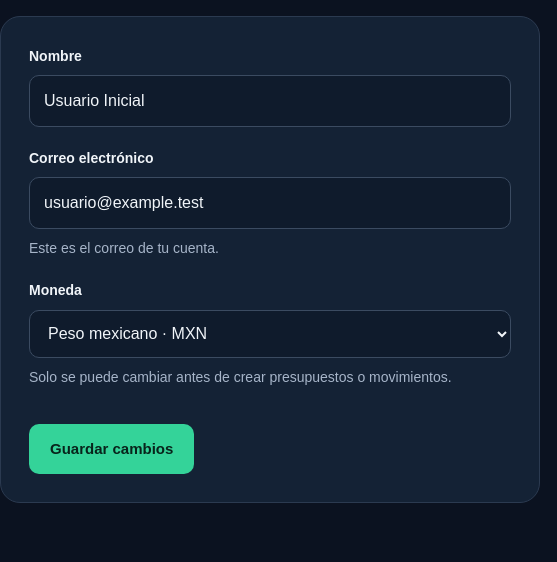
Test: ProfileForm › submits updated profile and displays success confirmation
Replace the text in the field labelled "Nombre" with "Nuevo Nombre" at (270, 101), box [29,75,511,127]
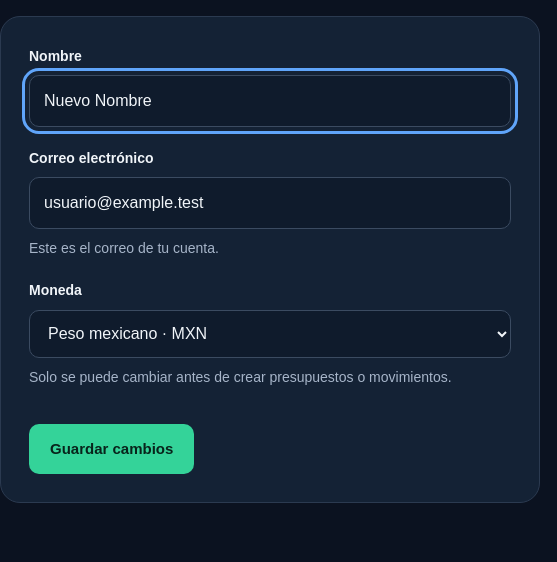
Click the button "Guardar cambios" at (112, 449), box [29,424,194,474]
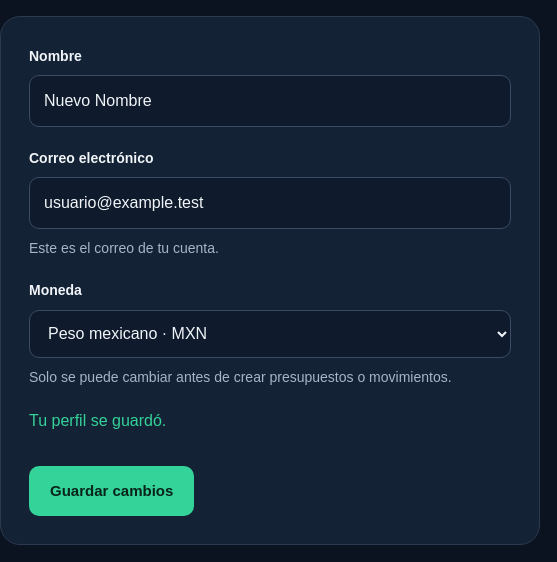
Expected: the message reads "Tu perfil se guardó.", [29,412,166,429]
